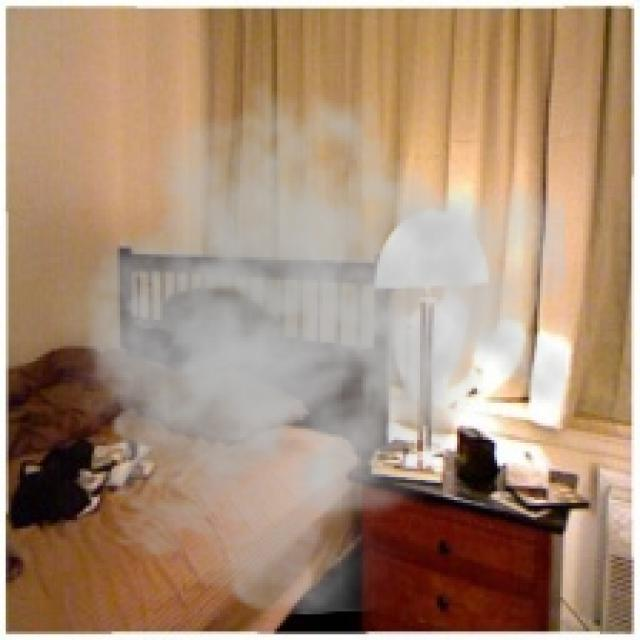smoke: (34, 77, 566, 617)
